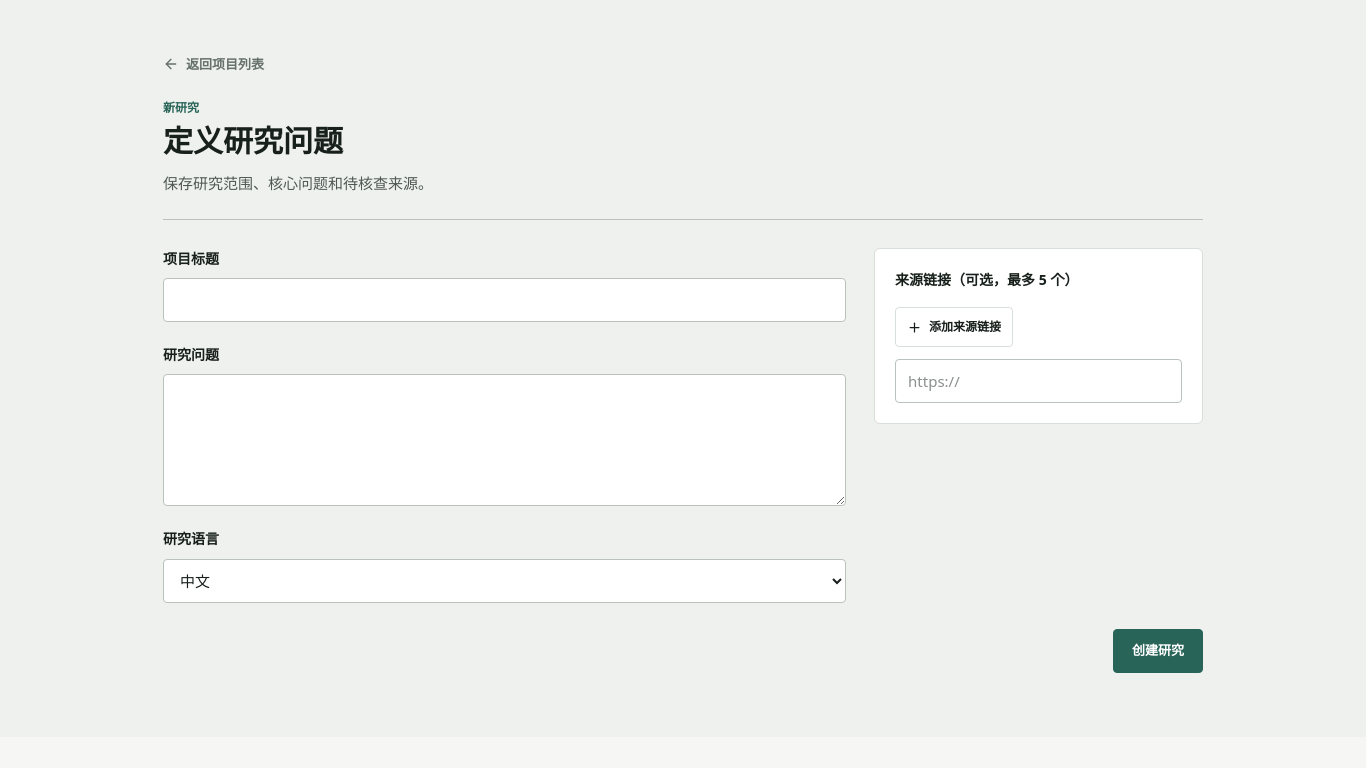
Scenario: managed project workspace UI › adds no more than five manual URL fields
Click the button "添加来源链接": coordinates (954, 327) [895, 307, 1013, 347]
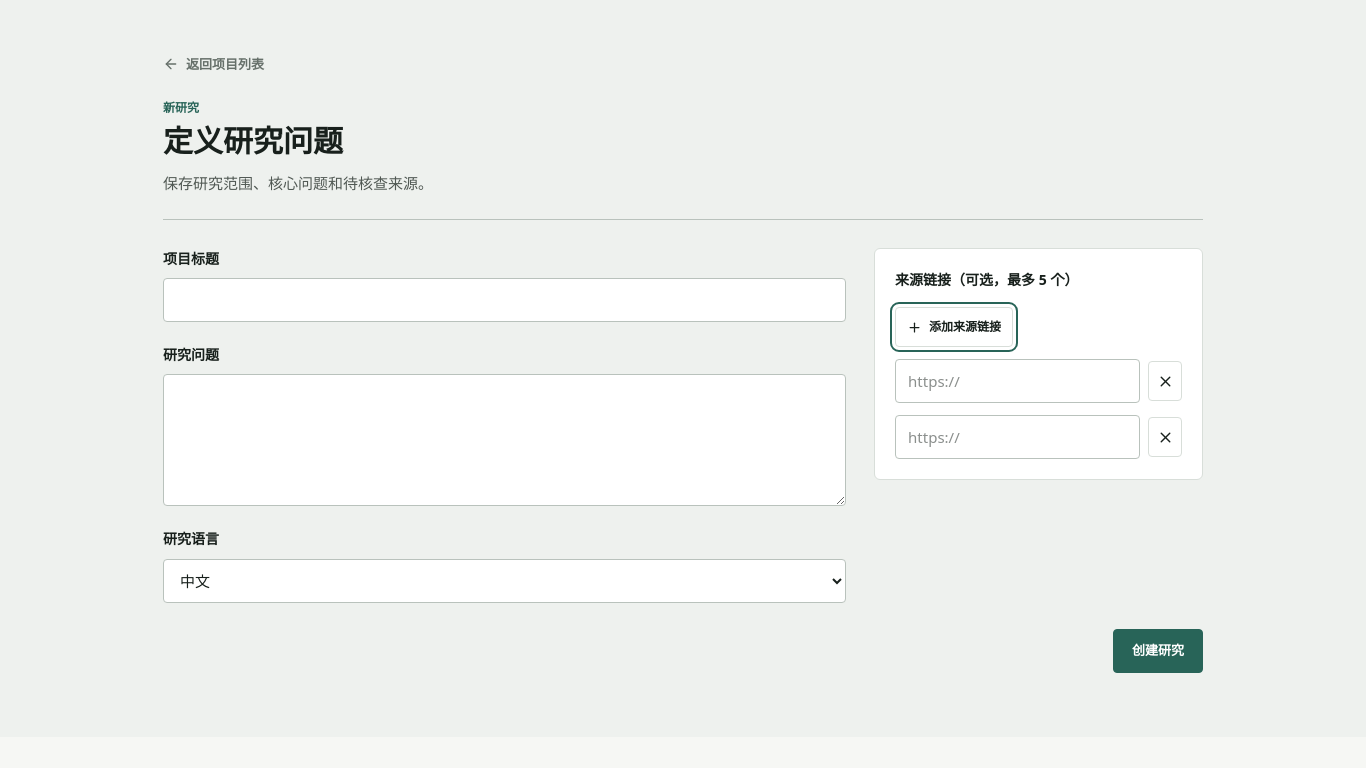
Click the button "添加来源链接": coordinates (954, 327) [895, 307, 1013, 347]
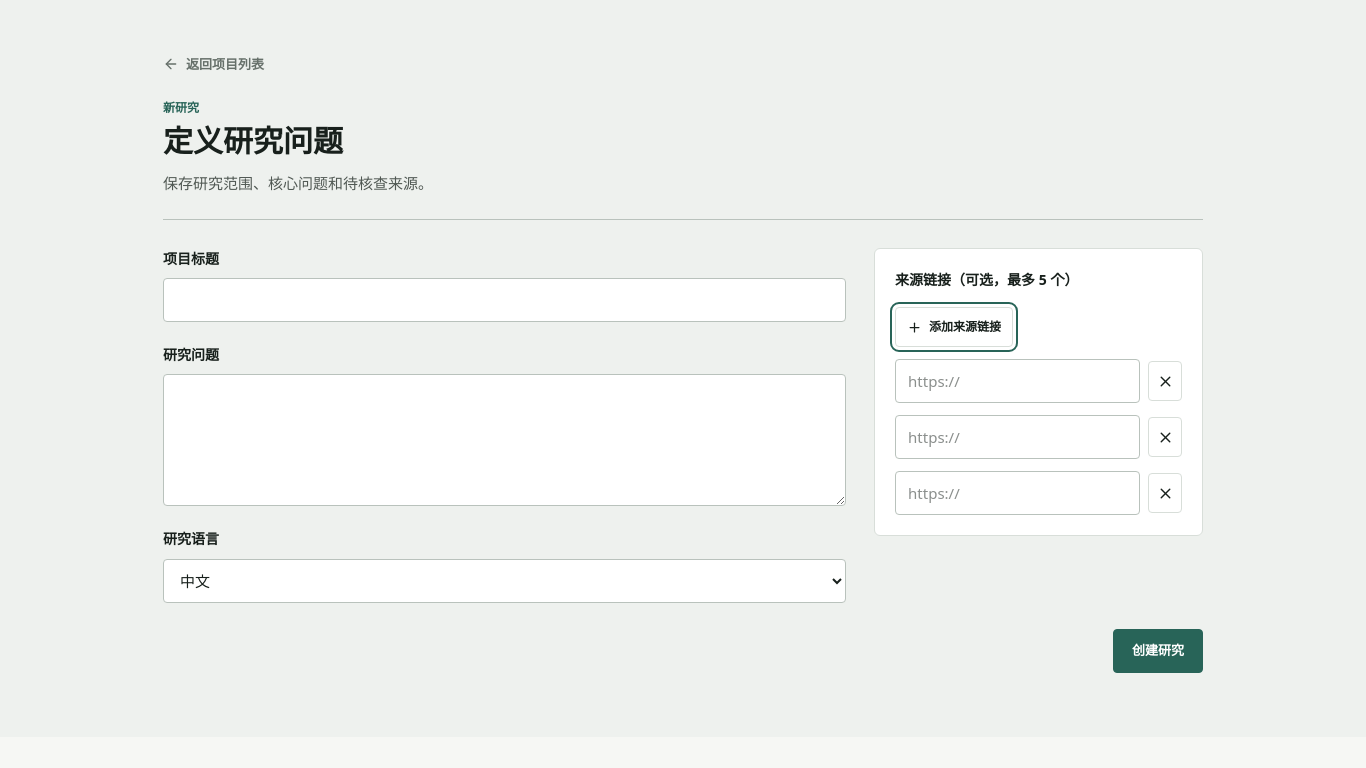
Click the button "添加来源链接": coordinates (954, 327) [895, 307, 1013, 347]
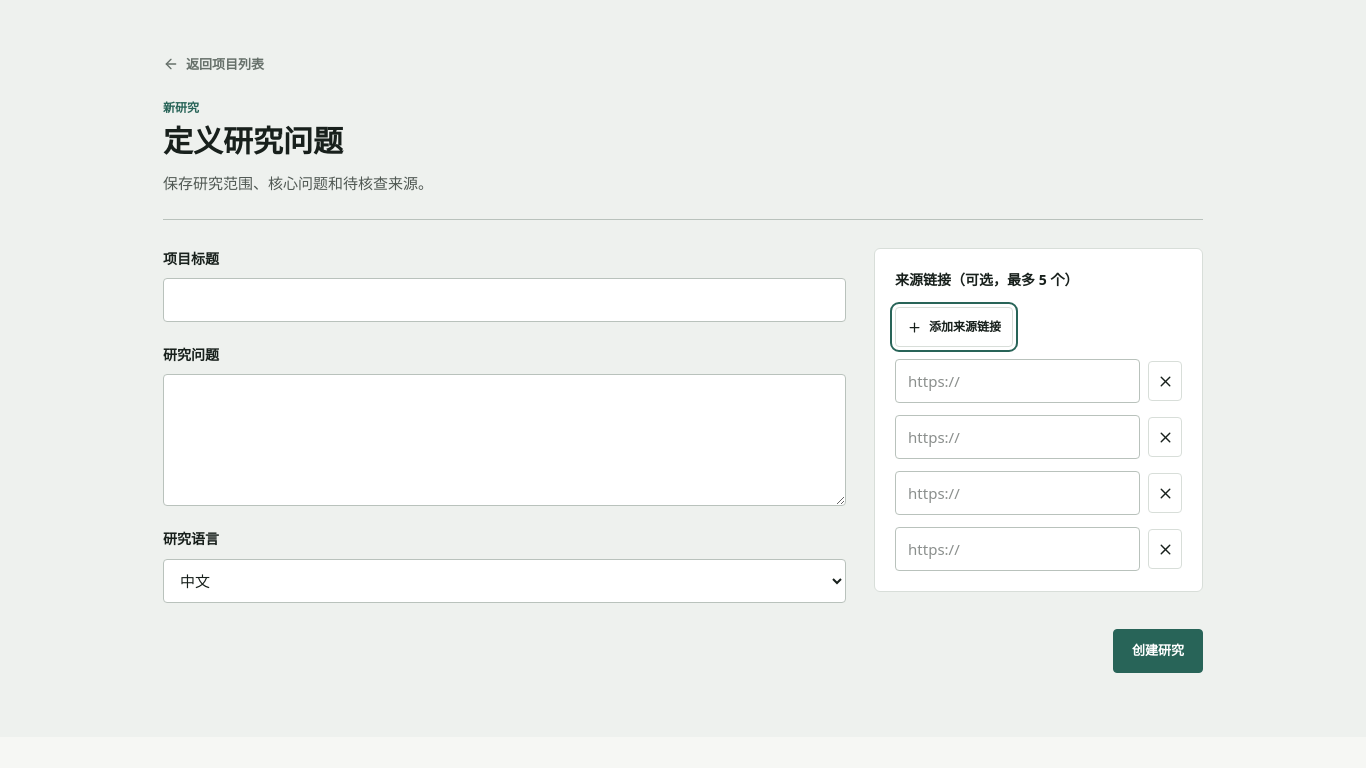
Click the button "添加来源链接": coordinates (954, 327) [895, 307, 1013, 347]
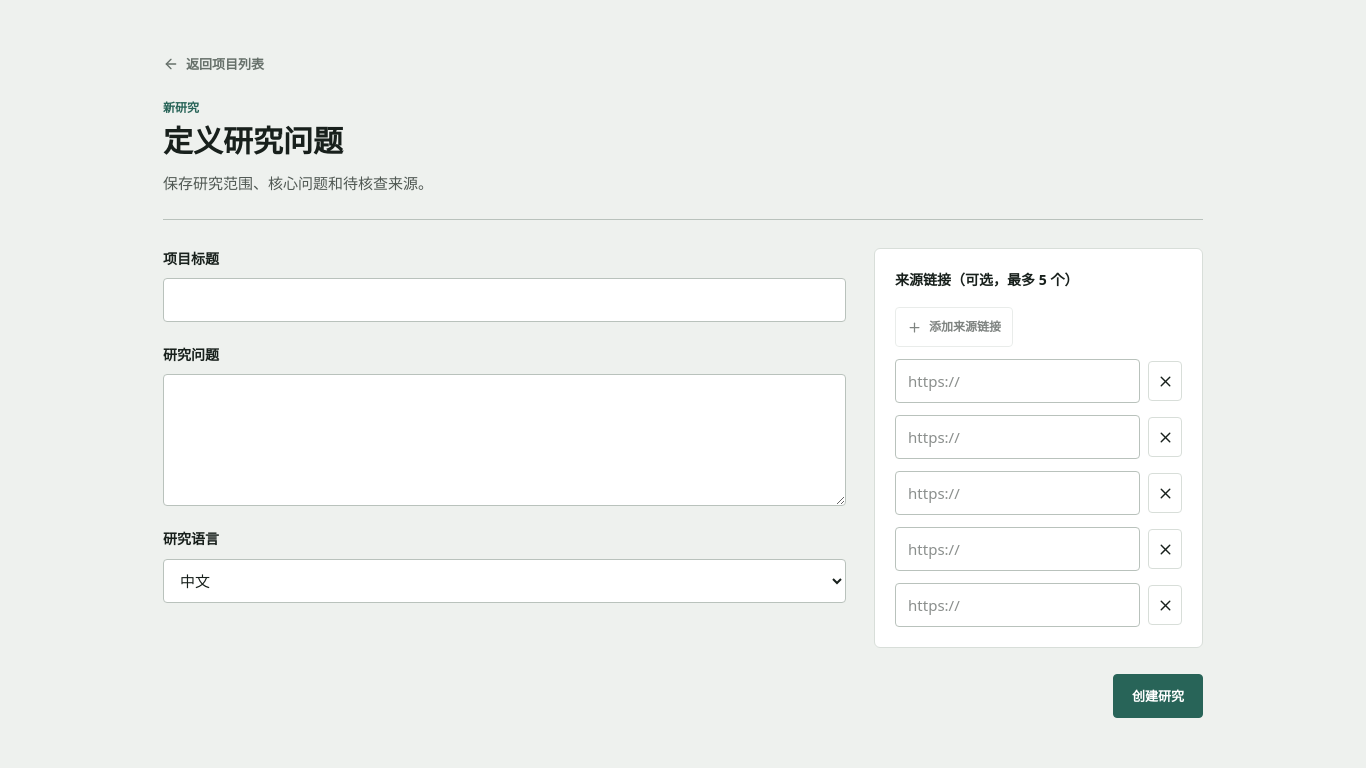
Now the number of fields named "来源链接" is 5, box [895, 359, 1140, 403]; [895, 415, 1140, 459]; [895, 471, 1140, 515]; [895, 527, 1140, 571]; [895, 583, 1140, 627]
Now the button "添加来源链接" is disabled, box [895, 307, 1013, 347]
Click the button named "移除来源链接": coordinates (1165, 381) [1148, 361, 1182, 401]
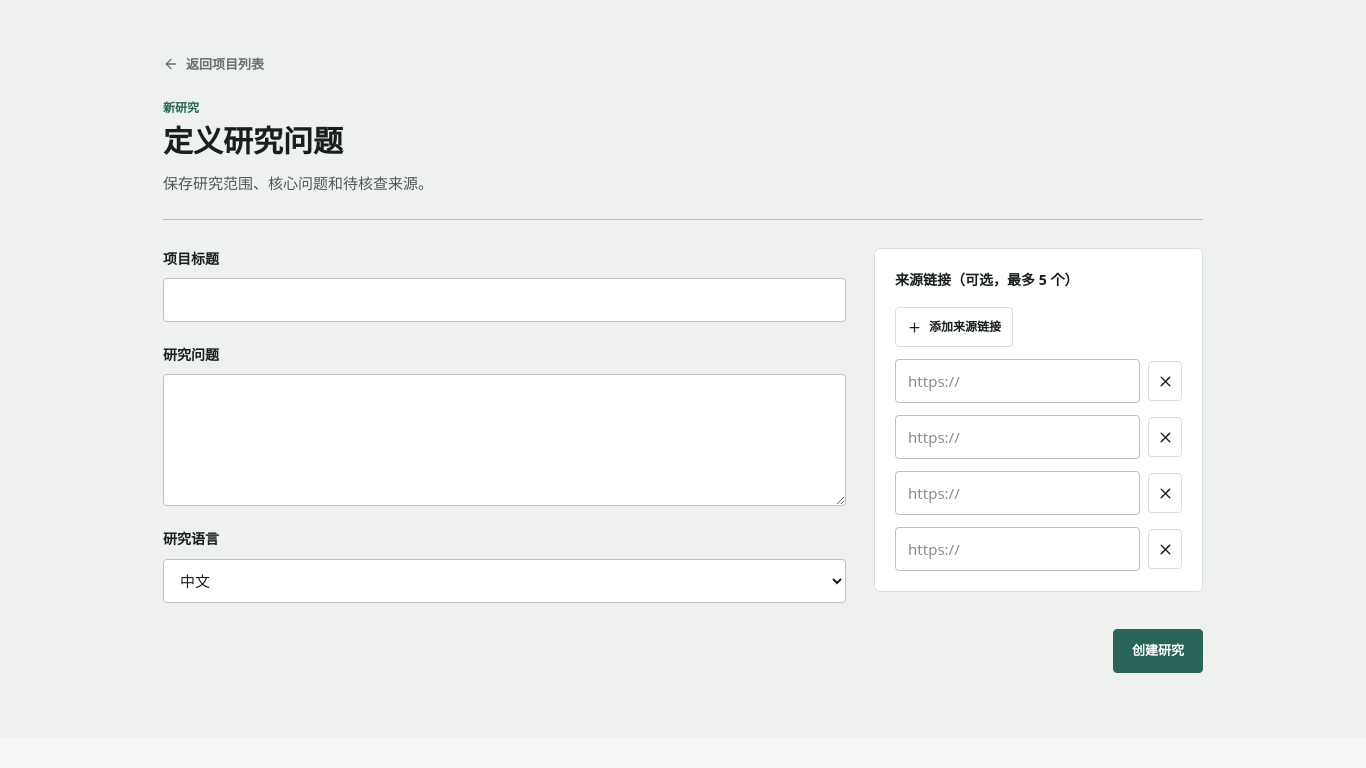
Now the number of fields named "来源链接" is 4, box [895, 359, 1140, 403]; [895, 415, 1140, 459]; [895, 471, 1140, 515]; [895, 527, 1140, 571]
Now the button "添加来源链接" is enabled, box [895, 307, 1013, 347]
